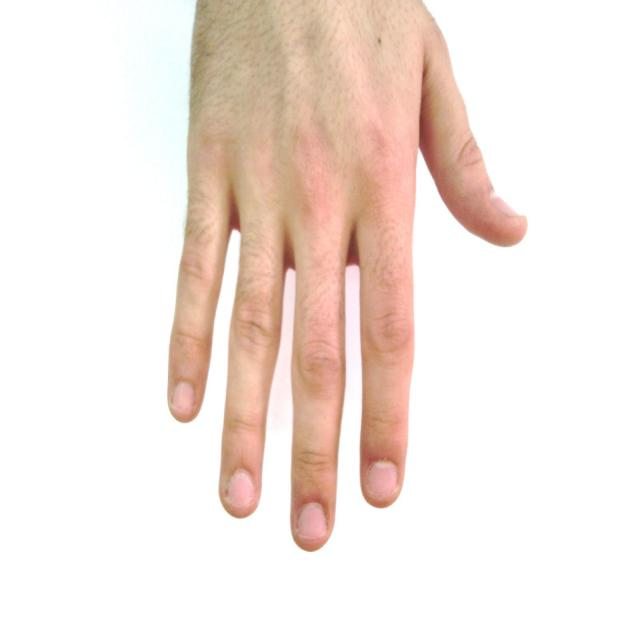others: (164, 0, 530, 551)
